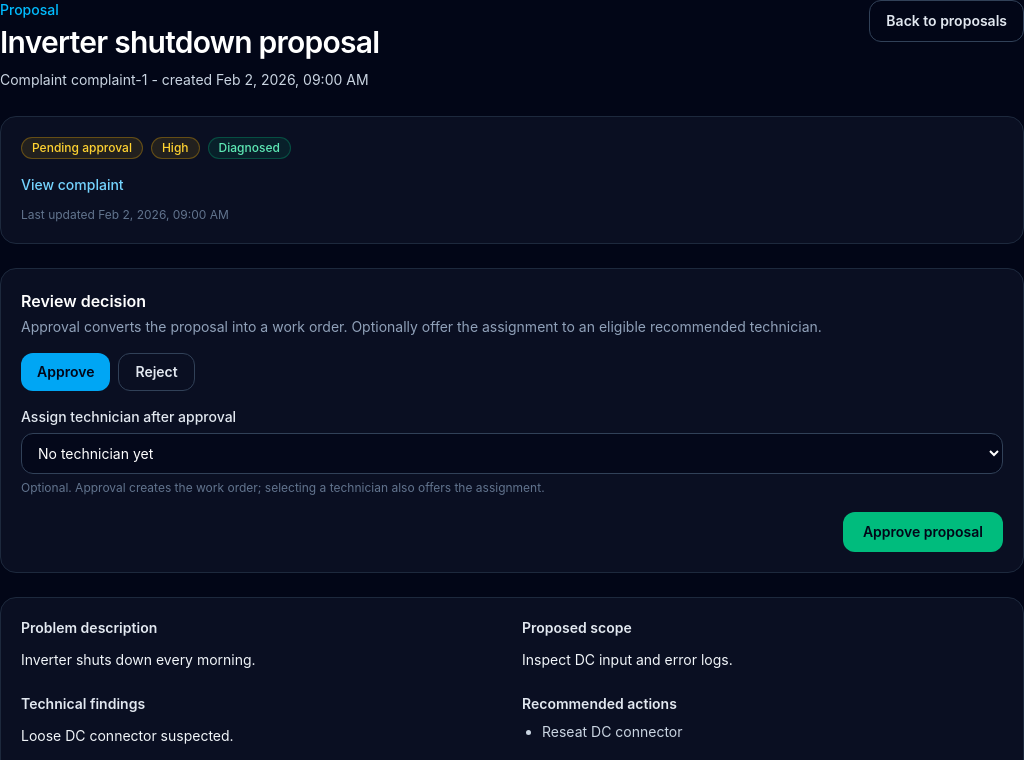
Test case: administrator approves a proposal with a selected technician
Expected: the heading "Review decision" is shown, [21,291,146,311]
Select "Ayesha Khan (rank 1)" in the dropdown labelled "Assign technician after approval" at [512, 454], box [21,433,1003,474]
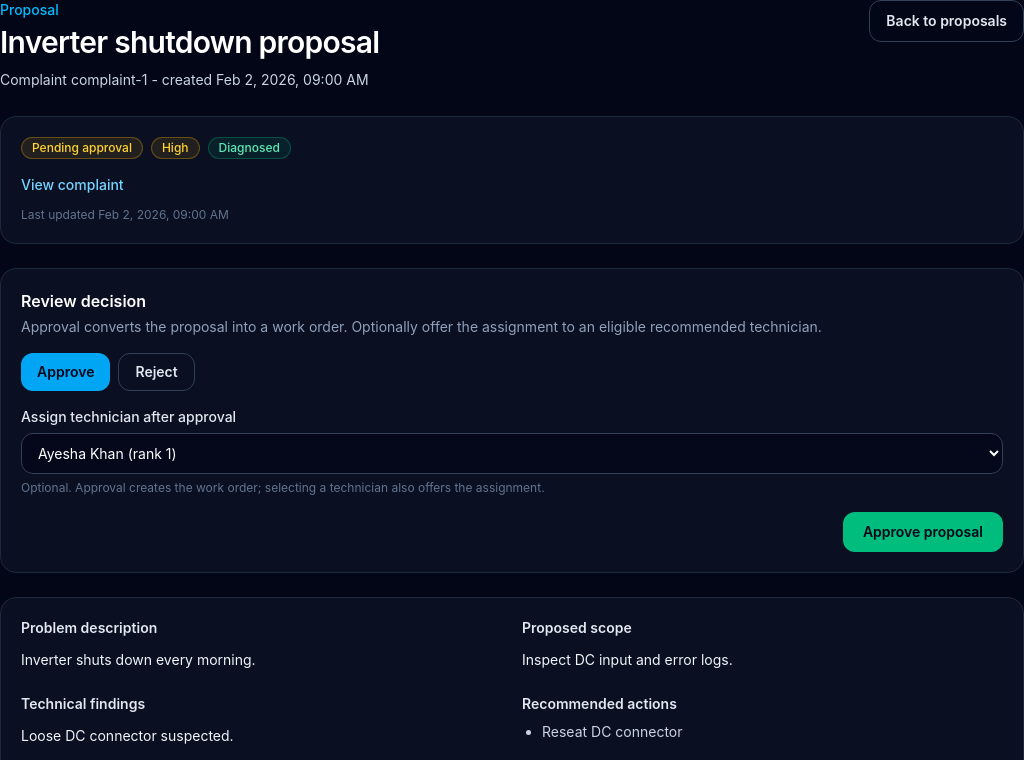
Click the button "Approve proposal".
click(923, 532)  # box [843,512,1003,552]
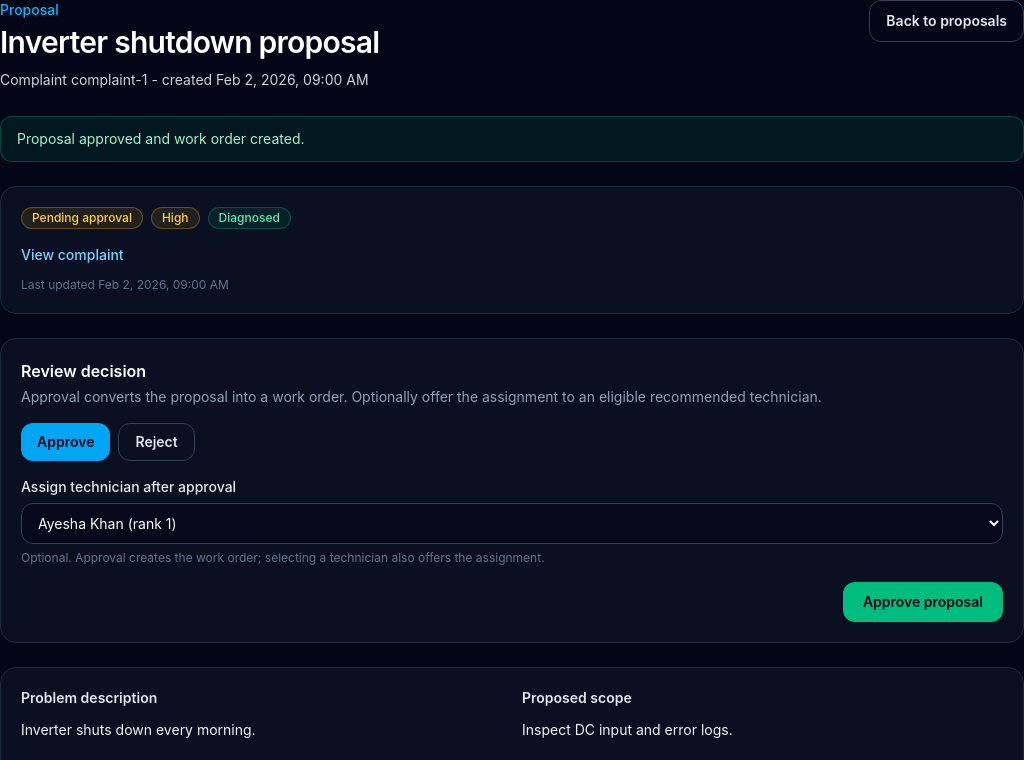
Now the text "Proposal approved and work order created." is shown, box [0,116,1023,162]
